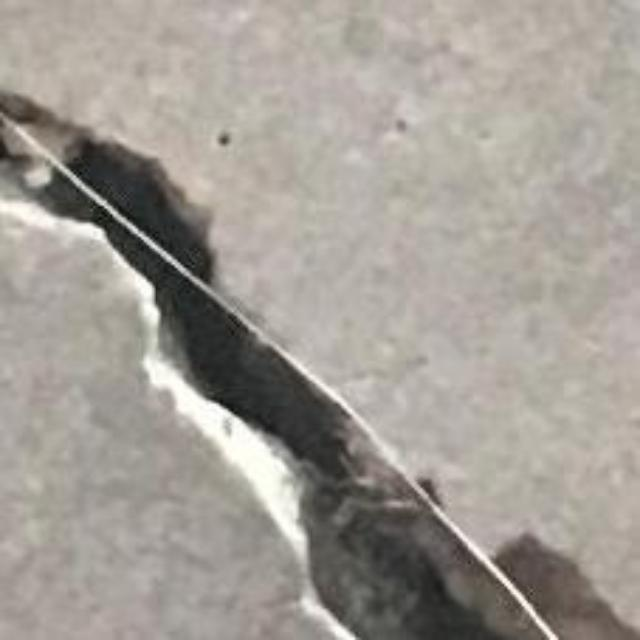crack: (0, 91, 639, 639)
